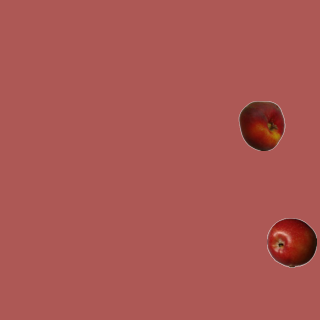Apple Braeburn: (266, 217, 316, 267)
Nectarine Flat: (236, 100, 286, 150)
